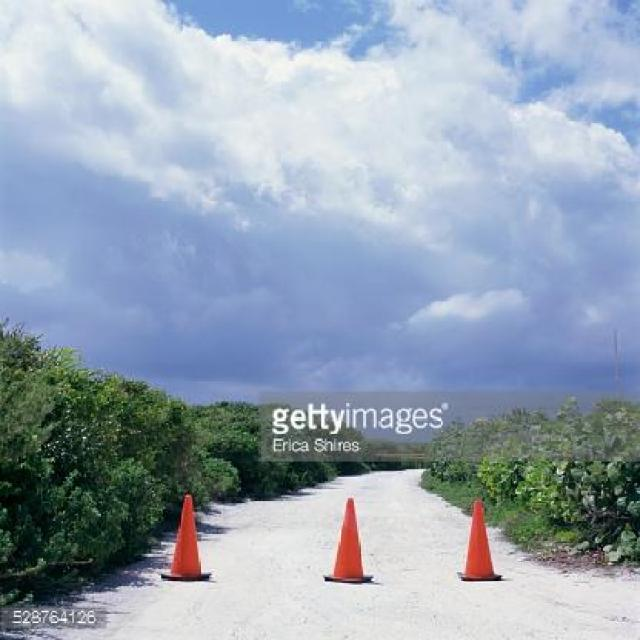Cone: (160, 492, 212, 582), (451, 497, 502, 580), (323, 497, 372, 583)
